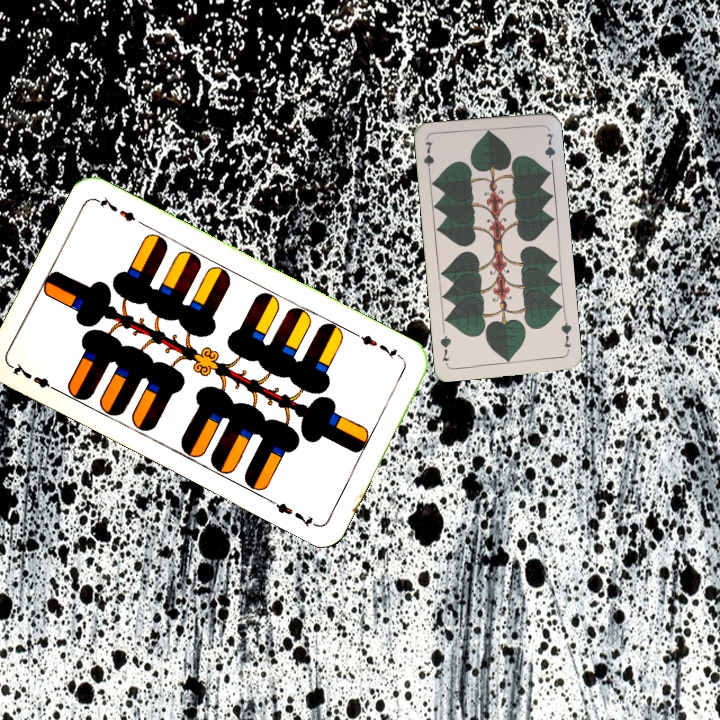E7: (7, 358, 62, 395), (351, 329, 406, 363)
G7: (419, 137, 437, 178), (557, 314, 574, 350)
